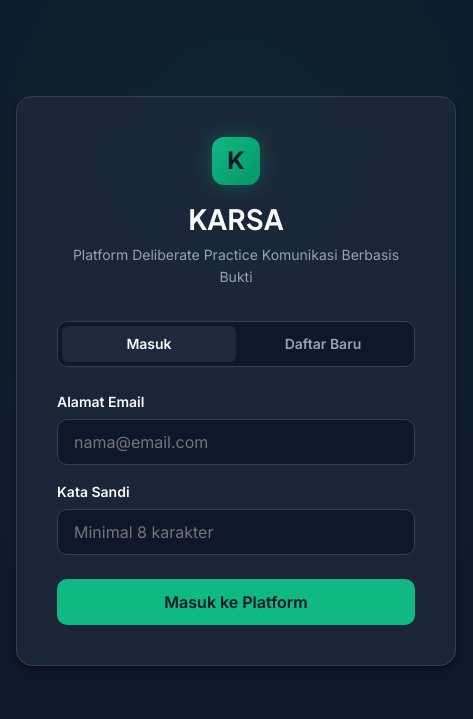
AuthView Component › validates required fields and shows error alert on failed login
The image size is (473, 719).
In the field labelled "Alamat Email": (236, 442) left=57, top=419, right=415, bottom=465, type "user@example.com"
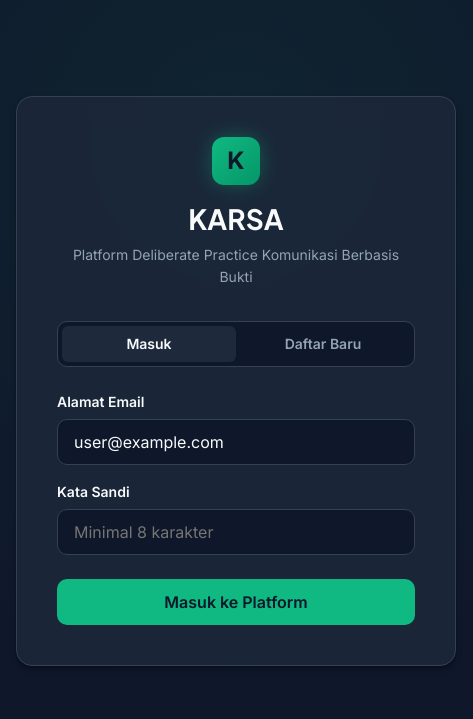
In the password field labelled "Kata Sandi": (236, 532) left=57, top=509, right=415, bottom=555, type "password123"
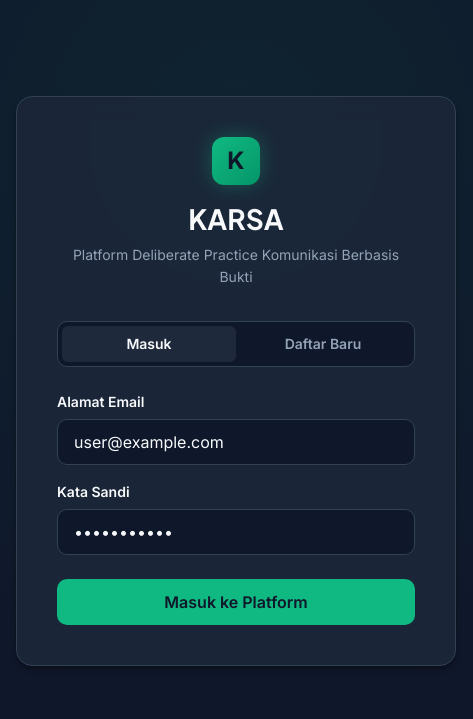
Click the button "Masuk ke Platform": (236, 602) left=57, top=579, right=415, bottom=625
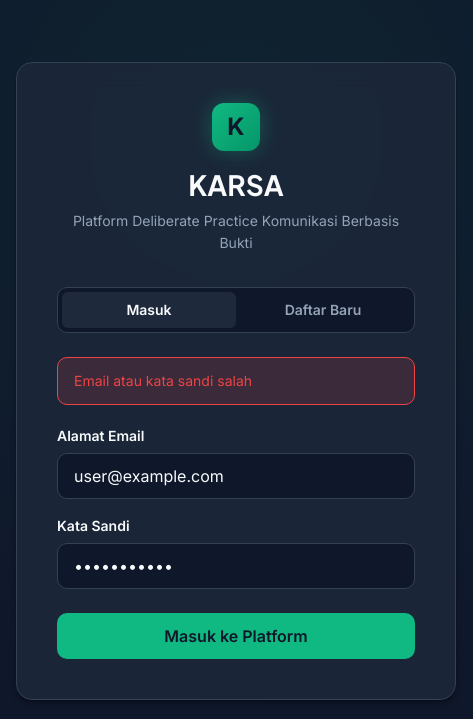
Check: the message reads "Email atau kata sandi salah", box left=74, top=372, right=252, bottom=389
